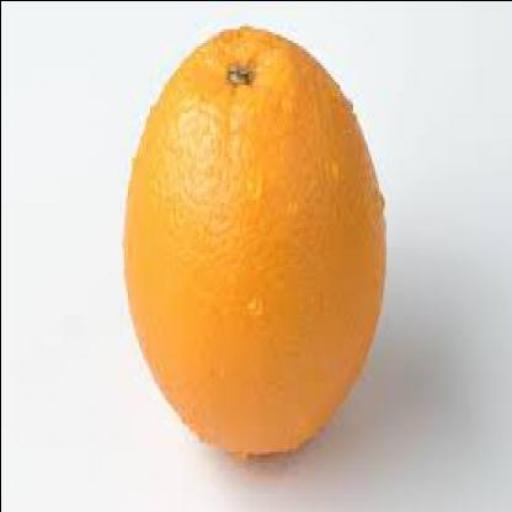biodegradable: (121, 20, 384, 453)
